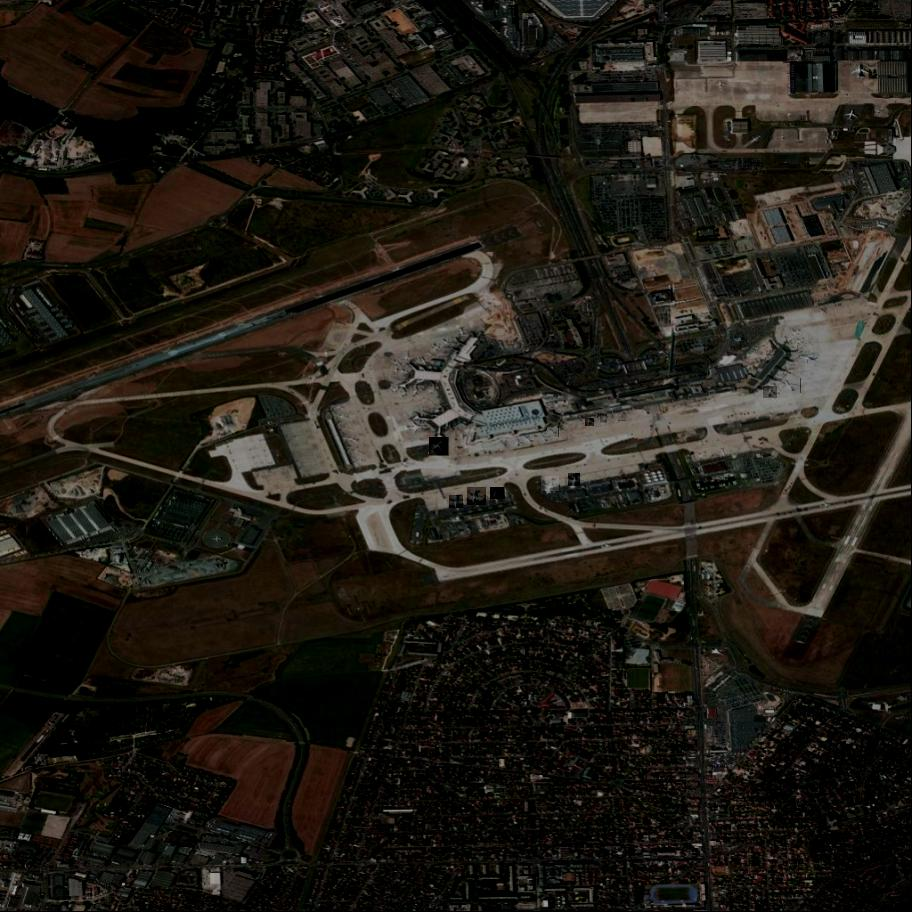plane: (430, 437, 450, 457), (468, 488, 488, 506), (782, 378, 801, 394), (542, 476, 559, 492), (763, 386, 778, 399), (568, 473, 580, 486), (450, 496, 463, 508), (490, 488, 504, 499), (548, 426, 560, 438), (539, 434, 550, 445), (618, 413, 627, 421), (585, 418, 594, 426), (601, 415, 607, 422)
